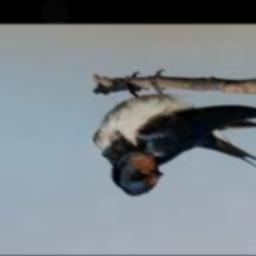Swallow: (94, 73, 256, 195)
